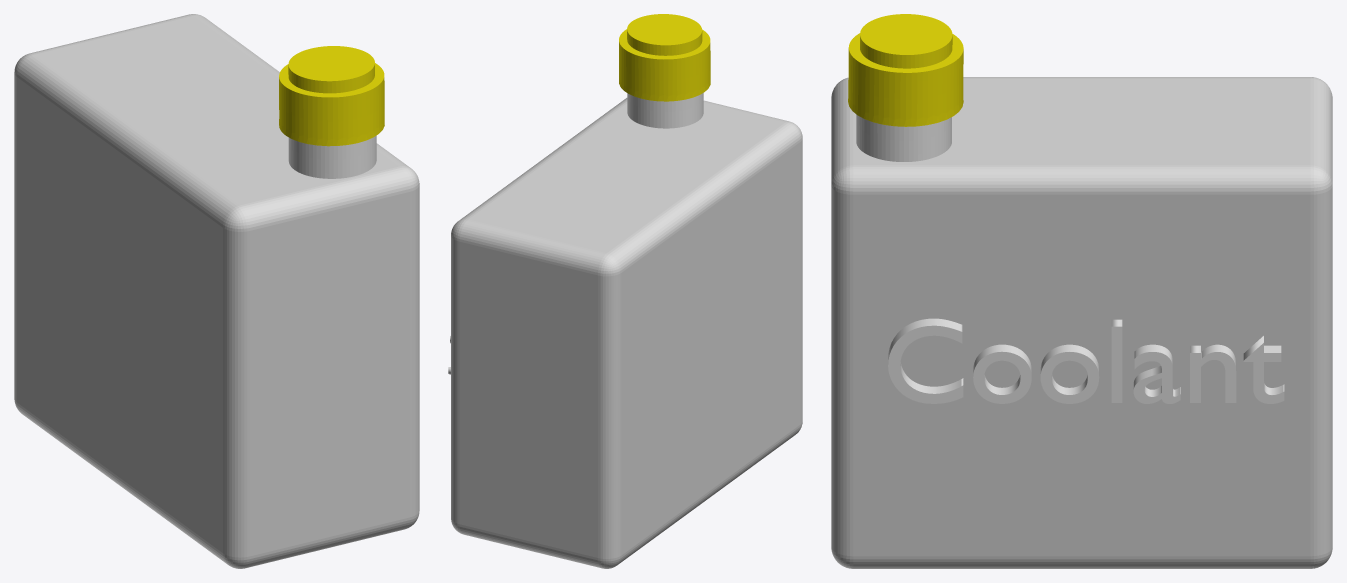
Rendered from coolant.fbx.
3 renders of one model, left to right at view 1: azimuth 30°, elevation 25°; view 2: azimuth 150°, elevation 25°; view 3: azimuth 270°, elevation 25°, orthographic. The views are drawn at different scales.
Visible parts, largest first — view 1: Cube, Cylinder.002, Cylinder.001; view 2: Cube, Cylinder.002, Cylinder.001; view 3: Cube, Text, Cylinder.002, Cylinder.001.
Boxes of the visible parts, left/top/right/bottom form: Cube: left=14, top=14, right=419, bottom=568; Cylinder.002: left=279, top=46, right=384, bottom=146; Cylinder.001: left=288, top=135, right=376, bottom=178; Cube: left=451, top=98, right=802, bottom=568; Cylinder.002: left=619, top=14, right=710, bottom=101; Cylinder.001: left=627, top=93, right=703, bottom=128; Cube: left=831, top=77, right=1332, bottom=568; Text: left=888, top=318, right=1284, bottom=403; Cylinder.002: left=848, top=14, right=963, bottom=126; Cylinder.001: left=856, top=114, right=951, bottom=161.
Size of the model in its own units: 123 by 253 by 226.
